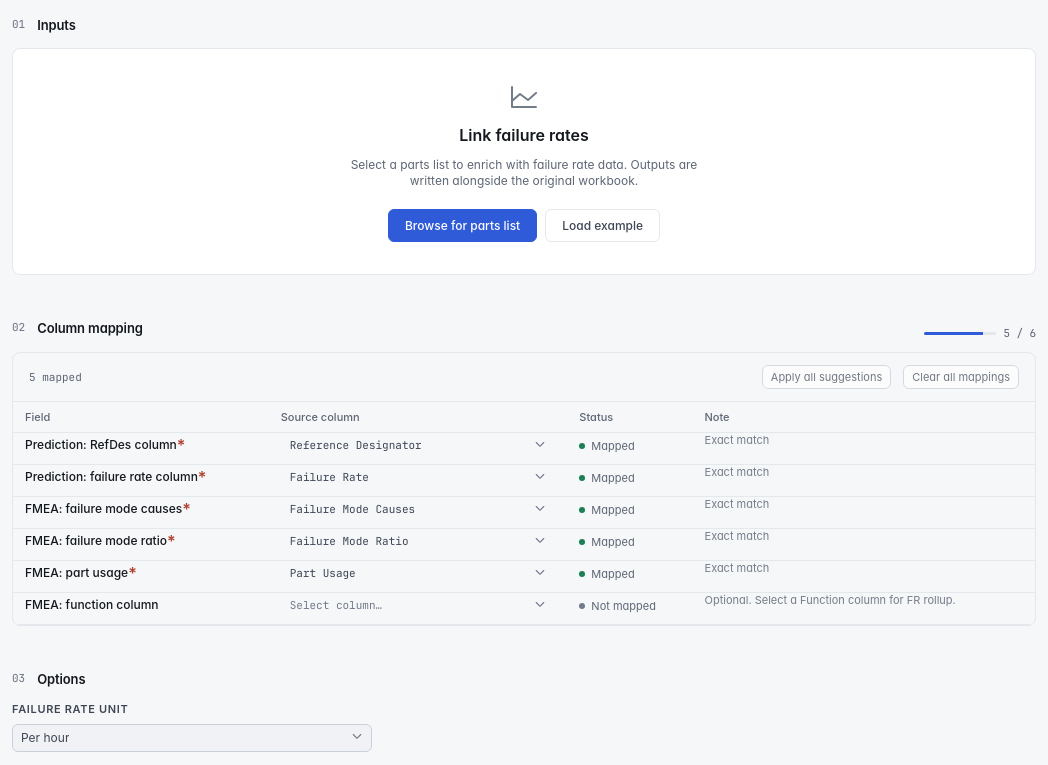
Test: FailureRateTool stale validation handling › exits pristine on the first real file and shows both slots
Click the button "Browse for parts list" at (463, 225), box [388,209,537,242]
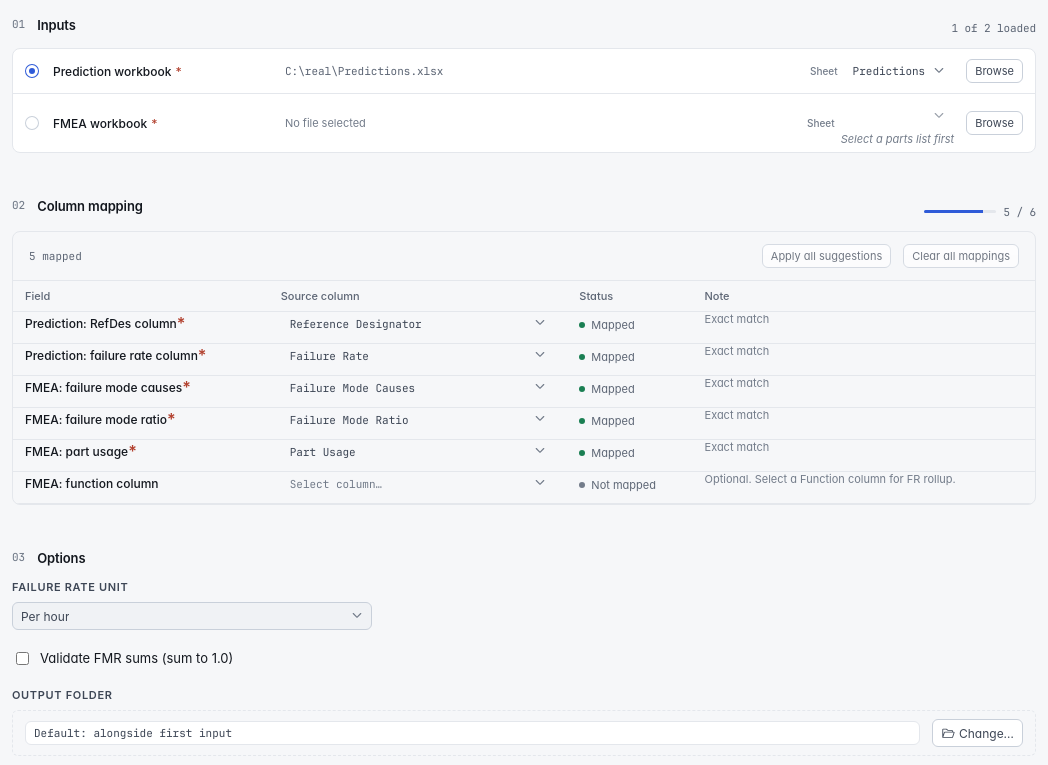
Check: the text "Prediction workbook" is shown, box [53,64,172,78]
Check: the text "FMEA workbook" is shown, box [53,116,147,130]
Check: the heading "Link failure rates" is gone
